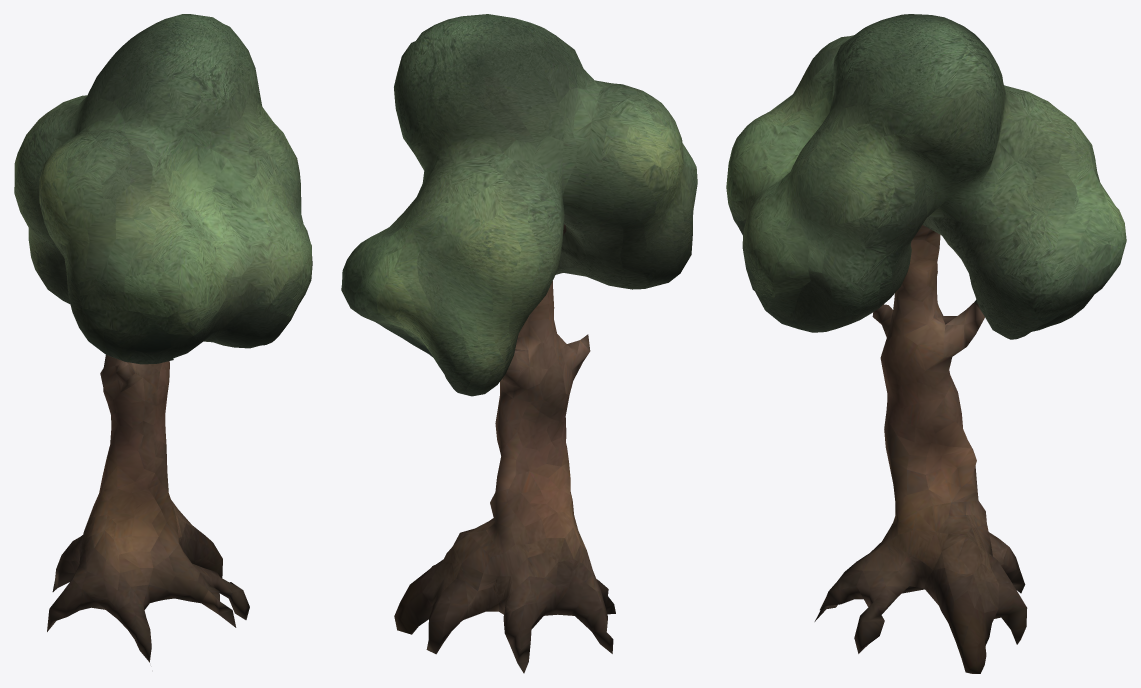
The model's file is tree_lod.fbx.
3 renders of one model, left to right at view 1: azimuth 30°, elevation 25°; view 2: azimuth 150°, elevation 25°; view 3: azimuth 270°, elevation 25°, orthographic. The views are drawn at different scales.
Visible parts, largest first — view 1: Retopo_Cube; view 2: Retopo_Cube; view 3: Retopo_Cube.
Part boxes in pixels (x1,y1,x2,y2): Retopo_Cube: (14, 14, 312, 662); Retopo_Cube: (341, 14, 697, 673); Retopo_Cube: (726, 14, 1126, 673).
Size of the model in its own units: 251 by 590 by 340.
Materials: 1 (1 with a texture image).
